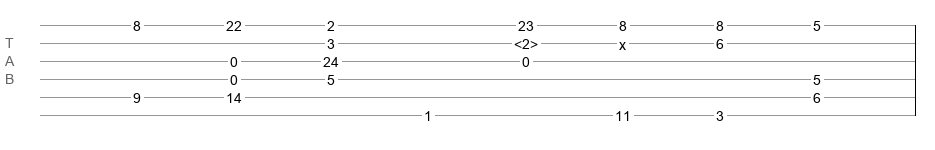0: (230, 72, 238, 82), (230, 54, 238, 64), (522, 54, 530, 64)
1: (424, 108, 432, 118)
11: (615, 108, 631, 118)
14: (226, 90, 242, 100)
2: (327, 18, 335, 28)
22: (226, 18, 242, 28)
23: (518, 18, 534, 28)
24: (323, 54, 339, 64)
3: (327, 36, 335, 46), (716, 108, 724, 118)
5: (327, 72, 335, 82), (813, 72, 821, 82), (813, 18, 821, 28)
6: (716, 36, 724, 46), (813, 90, 821, 100)
8: (133, 18, 141, 28), (619, 18, 627, 28), (716, 18, 724, 28)
9: (133, 90, 141, 100)
harmonic: (514, 36, 538, 46)
x: (619, 37, 626, 45)
